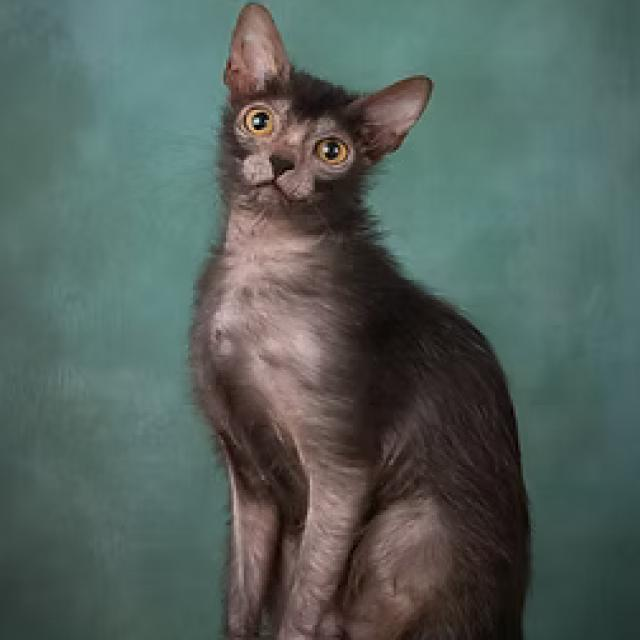Lykoi: (181, 0, 538, 640)
